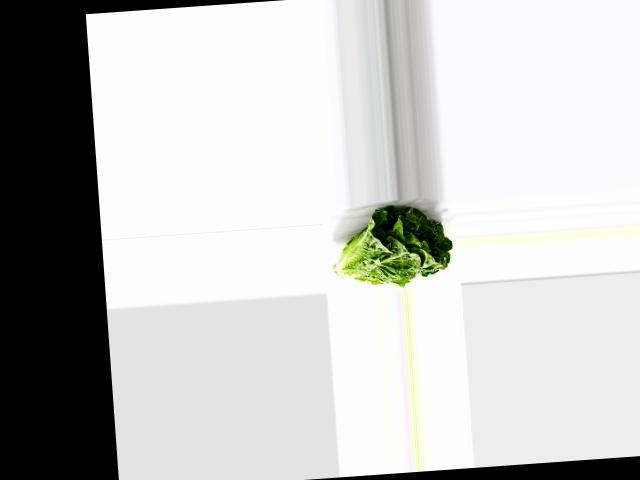lettuce: (331, 200, 453, 292)
